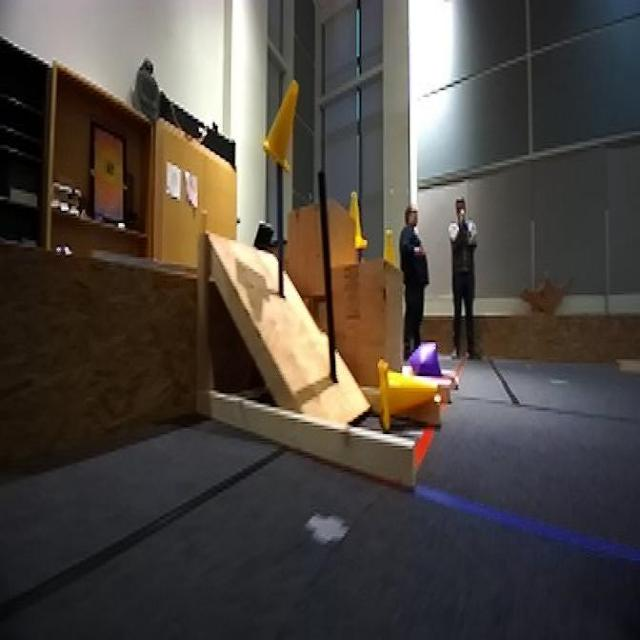frc_cone: (374, 359, 440, 432), (262, 78, 300, 168), (343, 186, 368, 248), (384, 230, 399, 267)
frc_cube: (410, 341, 443, 386)
